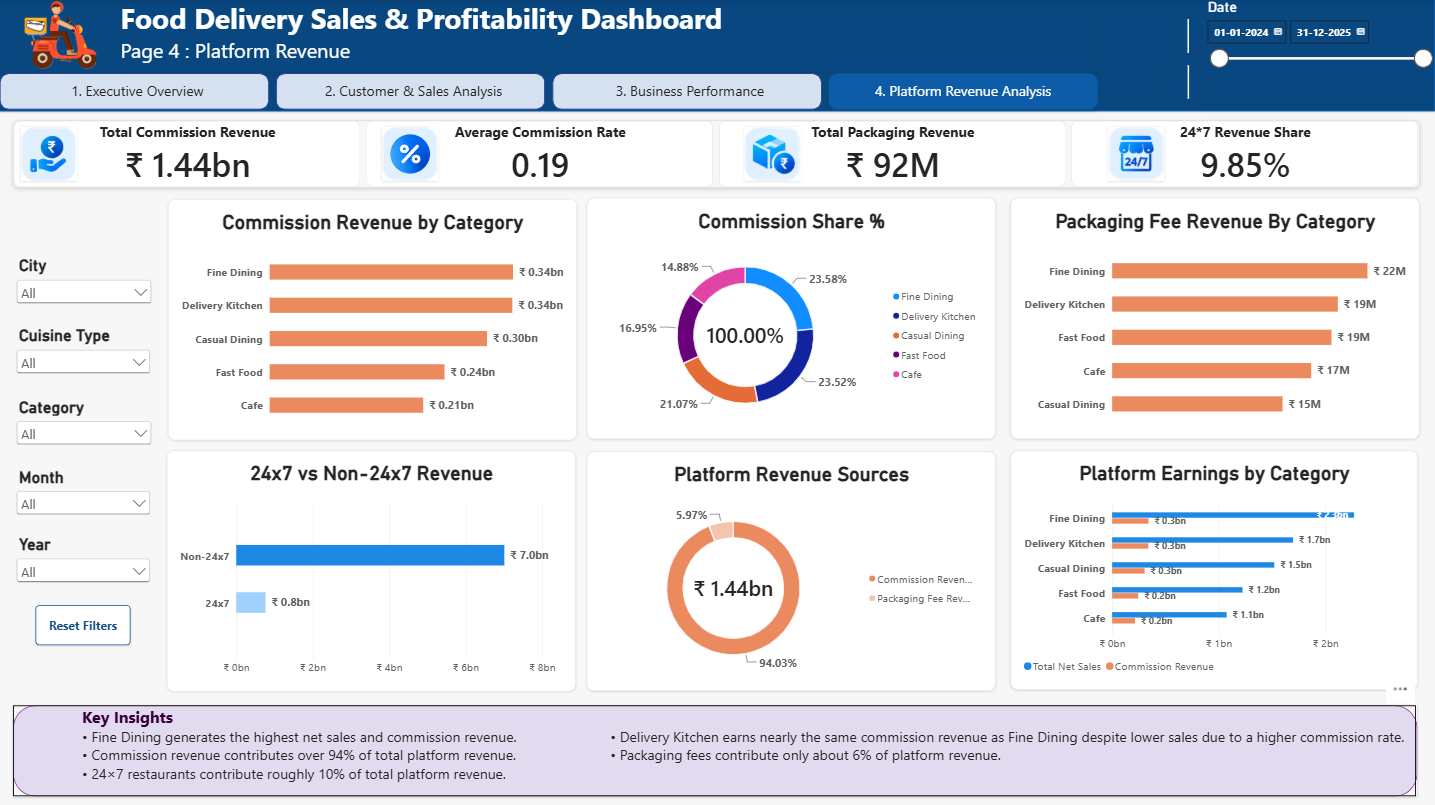

The dashboard page shown, as its layout file describes it:
{"tool":"powerbi","page":{"name":"4. Platform Revenue Analysis","canvas":[1920,1080],"ordinal":3},"visuals":[{"type":"pageNavigator","box":[0,98,1468,50],"z":0},{"type":"shape","box":[20,944,1876,122],"z":1000},{"type":"shape","box":[2,0,1918,150],"z":2000},{"type":"image","box":[0,0,164,98],"z":3000},{"type":"pageNavigator","box":[2,98,1468,50],"z":4000},{"type":"slicer","fields":{"Values":["daily_sales.Date"]},"box":[1608,0,312,148],"z":5000},{"type":"shape","box":[1566,26,47.3,45.3],"z":6000},{"type":"shape","box":[1560.8,88.5,57.7,44.6],"z":7000},{"type":"slicer","fields":{"Values":["daily_sales.City"]},"box":[20,344,190,94],"z":8000},{"type":"slicer","fields":{"Values":["daily_sales.Cuisine_Type"]},"box":[20,438,188,94],"z":9000},{"type":"slicer","fields":{"Values":["daily_sales.Month"]},"box":[20,626,188,94],"z":10000},{"type":"slicer","fields":{"Values":["daily_sales.Category"]},"box":[20,532,190,94],"z":11000},{"type":"slicer","fields":{"Values":["daily_sales.Year"]},"box":[20,716,188,94],"z":12000},{"type":"textbox","box":[163.8,0,1304.9,97.5],"z":13000},{"type":"cardVisual","fields":{"Data":["daily_sales.Commission Revenue","daily_sales.Average Commission Rate","daily_sales.Packaging Fee Revenue","daily_sales.24*7 Revenue Share %"]},"box":[20.2,162,1879.2,90.2],"z":14000},{"type":"clusteredBarChart","title":"24x7 vs Non-24x7 Revenue","fields":{"Category":["daily_sales.24x7 Status"],"Y":["daily_sales.Total Net Sales"]},"box":[226,602,546,322],"z":15000},{"type":"donutChart","title":"Platform Revenue Sources","fields":{"Y":["daily_sales.Commission Revenue","daily_sales.Packaging Fee Revenue"]},"box":[786,604,546,320],"z":16000},{"type":"clusteredBarChart","title":"Platform Earnings by Category","fields":{"Category":["daily_sales.Category"],"Y":["daily_sales.Total Net Sales","daily_sales.Commission Revenue"]},"box":[1352,602,544,320],"z":17000},{"type":"clusteredBarChart","title":"Commission Revenue by Category","fields":{"Y":["daily_sales.Commission Revenue"],"Category":["daily_sales.Category"]},"box":[226.4,266.9,546,322],"z":18000},{"type":"donutChart","title":"Commission Share %","fields":{"Category":["daily_sales.Category"],"Y":["daily_sales.Commission Share %"]},"box":[786,266,546,322],"z":19000},{"type":"clusteredBarChart","title":"Packaging Fee Revenue By Category","fields":{"Category":["daily_sales.Category"],"Y":["daily_sales.Packaging Fee Revenue"]},"box":[1352,266,546,322],"z":20000},{"type":"textbox","box":[20.2,944.2,1875.5,121.5],"z":21000},{"type":"image","box":[29.2,170.8,75.4,73.1],"z":22000},{"type":"image","box":[1482.3,170.8,75.4,73.1],"z":23000},{"type":"image","box":[996.2,170.8,75.4,73.1],"z":24000},{"type":"image","box":[513.1,170.8,75.4,73.1],"z":25000},{"type":"actionButton","box":[49.7,809.8,127,53.4],"z":26000}]}

Visuals, with their boxes in screenshot pixels (x1, y1, x2, y2), scaled from the page's 1920x1080 canvas onto the 1435x805 screenshot:
pageNavigator: BBox(0, 73, 1097, 110)
shape: BBox(15, 704, 1417, 795)
shape: BBox(1, 0, 1434, 112)
image: BBox(0, 0, 123, 73)
pageNavigator: BBox(1, 73, 1099, 110)
slicer - daily_sales.Date: BBox(1202, 0, 1434, 110)
shape: BBox(1170, 19, 1206, 53)
shape: BBox(1167, 66, 1210, 99)
slicer - daily_sales.City: BBox(15, 256, 157, 326)
slicer - daily_sales.Cuisine_Type: BBox(15, 326, 155, 397)
slicer - daily_sales.Month: BBox(15, 467, 155, 537)
slicer - daily_sales.Category: BBox(15, 397, 157, 467)
slicer - daily_sales.Year: BBox(15, 534, 155, 604)
textbox: BBox(122, 0, 1098, 73)
cardVisual - daily_sales.Commission Revenue x daily_sales.Average Commission Rate: BBox(15, 121, 1420, 188)
"24x7 vs Non-24x7 Revenue" clusteredBarChart: BBox(169, 449, 577, 689)
"Platform Revenue Sources" donutChart: BBox(587, 450, 996, 689)
"Platform Earnings by Category" clusteredBarChart: BBox(1010, 449, 1417, 687)
"Commission Revenue by Category" clusteredBarChart: BBox(169, 199, 577, 439)
"Commission Share %" donutChart: BBox(587, 198, 996, 438)
"Packaging Fee Revenue By Category" clusteredBarChart: BBox(1010, 198, 1419, 438)
textbox: BBox(15, 704, 1417, 794)
image: BBox(22, 127, 78, 182)
image: BBox(1108, 127, 1164, 182)
image: BBox(745, 127, 801, 182)
image: BBox(383, 127, 440, 182)
actionButton: BBox(37, 604, 132, 643)
